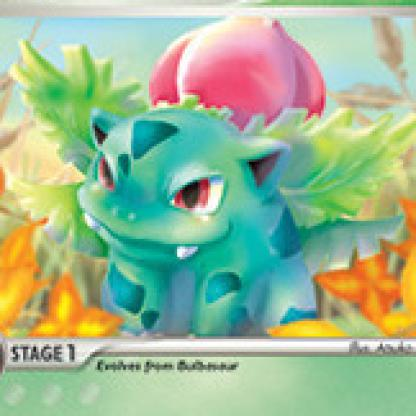Ivysaur: (45, 11, 405, 330)
